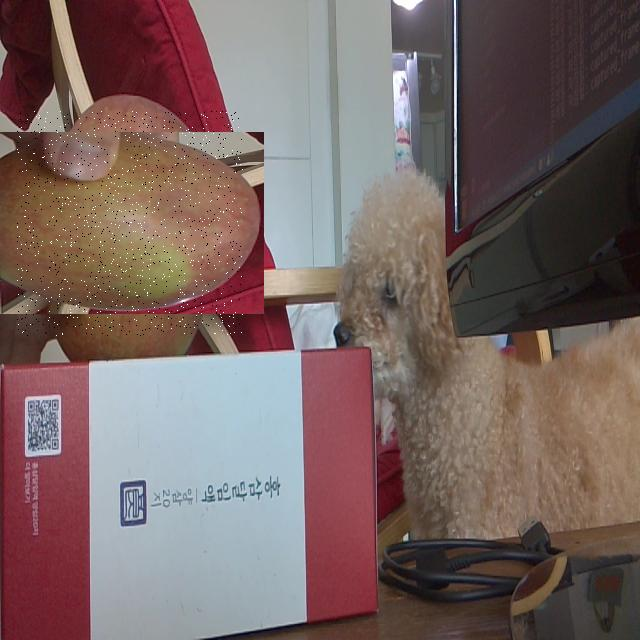apple: (17, 111, 243, 336)
